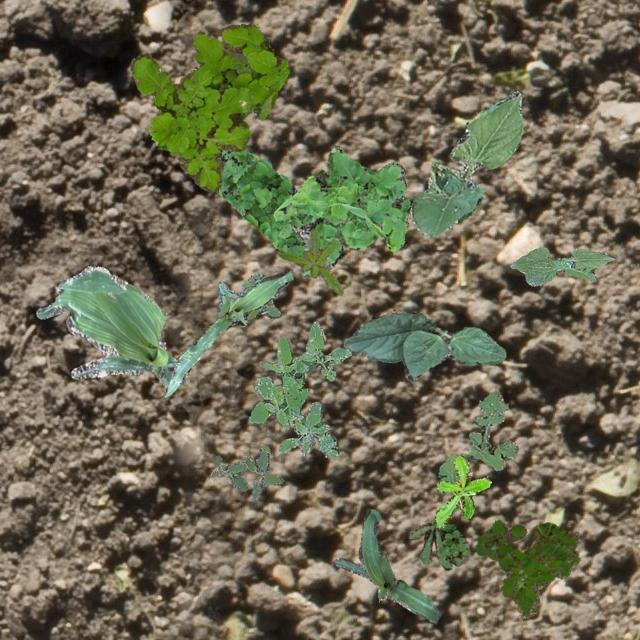crop: (36, 264, 184, 386), (408, 90, 522, 237), (164, 268, 292, 396), (334, 508, 439, 622), (342, 310, 504, 380), (510, 246, 614, 286)
weed: (130, 22, 288, 192), (272, 144, 408, 276), (248, 320, 350, 428), (474, 518, 578, 618), (216, 147, 304, 256), (436, 390, 518, 482), (278, 228, 342, 294), (432, 454, 490, 526), (210, 444, 282, 498), (278, 401, 338, 458), (408, 520, 468, 570), (216, 272, 278, 320)
